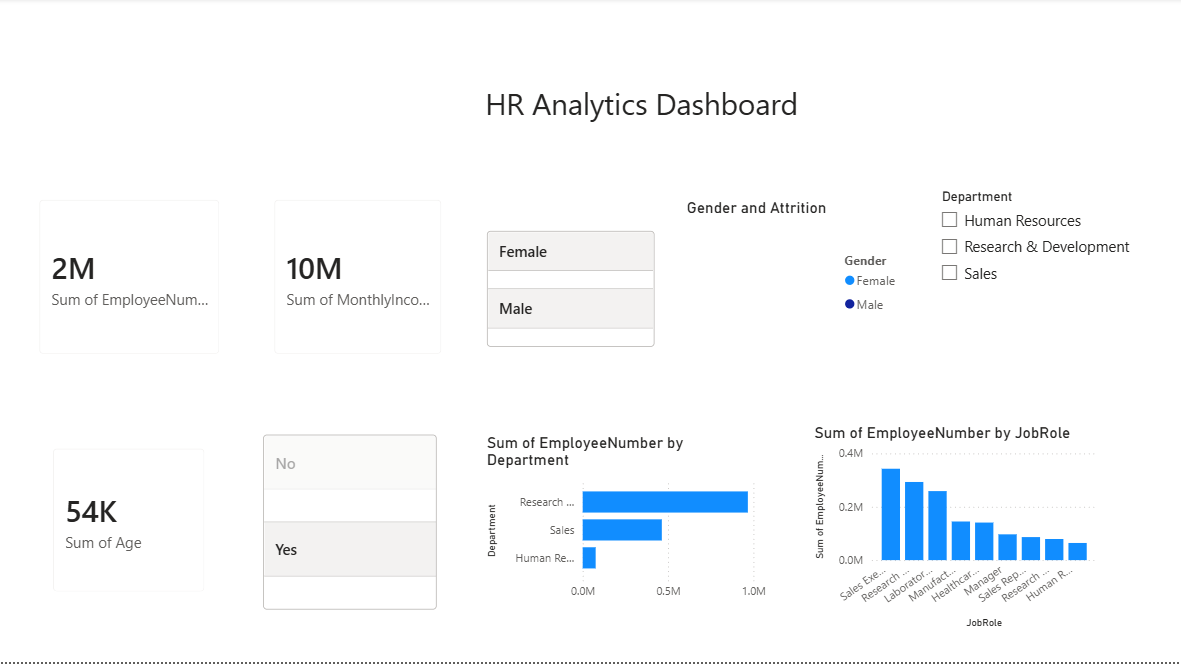

What the dashboard file says about the page in this screenshot:
{"tool":"powerbi","page":{"name":"Page 1","canvas":[1280,720],"ordinal":0},"visuals":[{"type":"cardVisual","fields":{"Data":["Sum(Dataset.EmployeeNumber)"]},"box":[26.1,201.7,229.2,201.7],"z":0},{"type":"cardVisual","fields":{"Data":["Sum(Dataset.Age)"]},"box":[41.2,472,199,189.4],"z":1},{"type":"cardVisual","fields":{"Data":["Sum(Dataset.MonthlyIncome)"]},"box":[279.9,201.7,215.4,201.7],"z":2},{"type":"cardVisual","fields":{"Rows":["Dataset.Attrition"]},"box":[279.9,448.7,199,240.1],"z":3},{"type":"clusteredBarChart","fields":{"Category":["Dataset.Department"],"Y":["Sum(Dataset.EmployeeNumber)"]},"box":[522.8,472,312.9,189.4],"z":4},{"type":"clusteredColumnChart","fields":{"Category":["Dataset.JobRole"],"Y":["Sum(Dataset.EmployeeNumber)"]},"box":[877.9,460.6,315.7,227.6],"z":5},{"type":"cardVisual","fields":{"Rows":["Dataset.Gender"],"Data":["Sum(Dataset.EmployeeNumber)"]},"box":[522.9,227.6,191,176.1],"z":6},{"type":"pieChart","fields":{"Category":["Dataset.Gender"],"Series":["Dataset.Attrition"]},"box":[739.7,216.8,246.6,166.6],"z":7},{"type":"slicer","fields":{"Values":["Dataset.Department"]},"box":[1008,201.9,260.1,181.5],"z":8},{"type":"textbox","box":[298.1,0,840,201.9],"z":9}]}

Visuals, with their boxes in screenshot pixels (x1, y1, x2, y2), scaled from the page's 1280x720 canvas onto the 1181x664 screenshot:
cardVisual - Sum(Dataset.EmployeeNumber): bbox=(24, 186, 236, 372)
cardVisual - Sum(Dataset.Age): bbox=(38, 435, 222, 610)
cardVisual - Sum(Dataset.MonthlyIncome): bbox=(258, 186, 457, 372)
cardVisual - Dataset.Attrition: bbox=(258, 414, 442, 635)
clusteredBarChart - Dataset.Department x Sum(Dataset.EmployeeNumber): bbox=(482, 435, 771, 610)
clusteredColumnChart - Dataset.JobRole x Sum(Dataset.EmployeeNumber): bbox=(810, 425, 1101, 635)
cardVisual - Dataset.Gender x Sum(Dataset.EmployeeNumber): bbox=(482, 210, 659, 372)
pieChart - Dataset.Gender x Dataset.Attrition: bbox=(682, 200, 910, 354)
slicer - Dataset.Department: bbox=(930, 186, 1170, 354)
textbox: bbox=(275, 0, 1050, 186)
